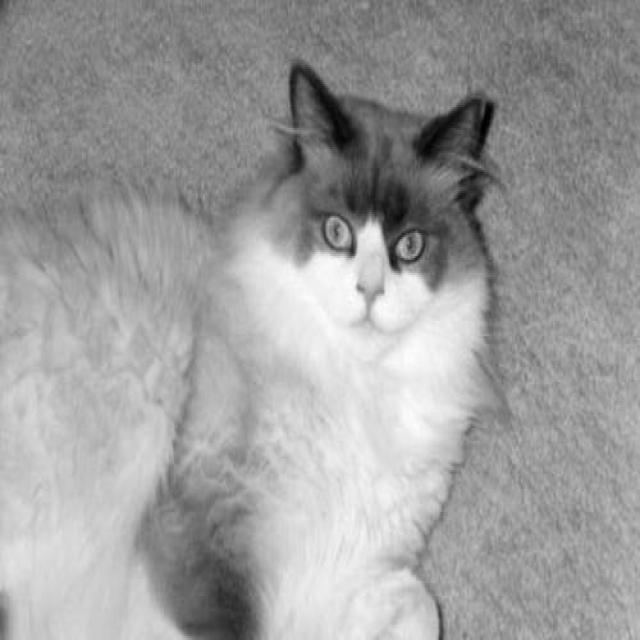cat: (0, 57, 512, 638)
